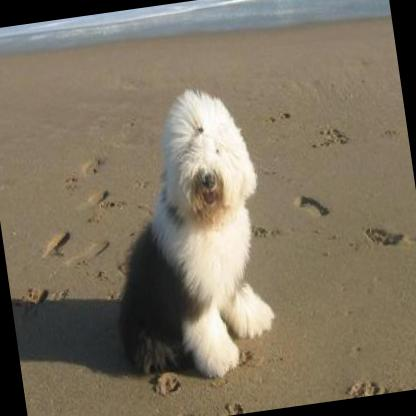Old_English_sheepdog: (87, 77, 284, 390)
